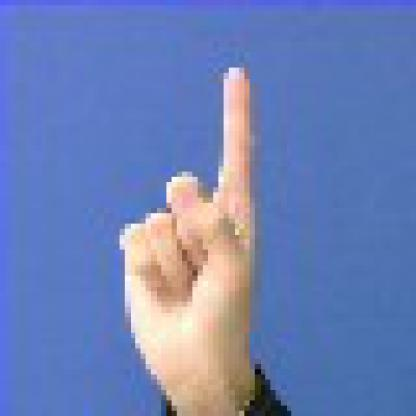one: (102, 56, 286, 403)
